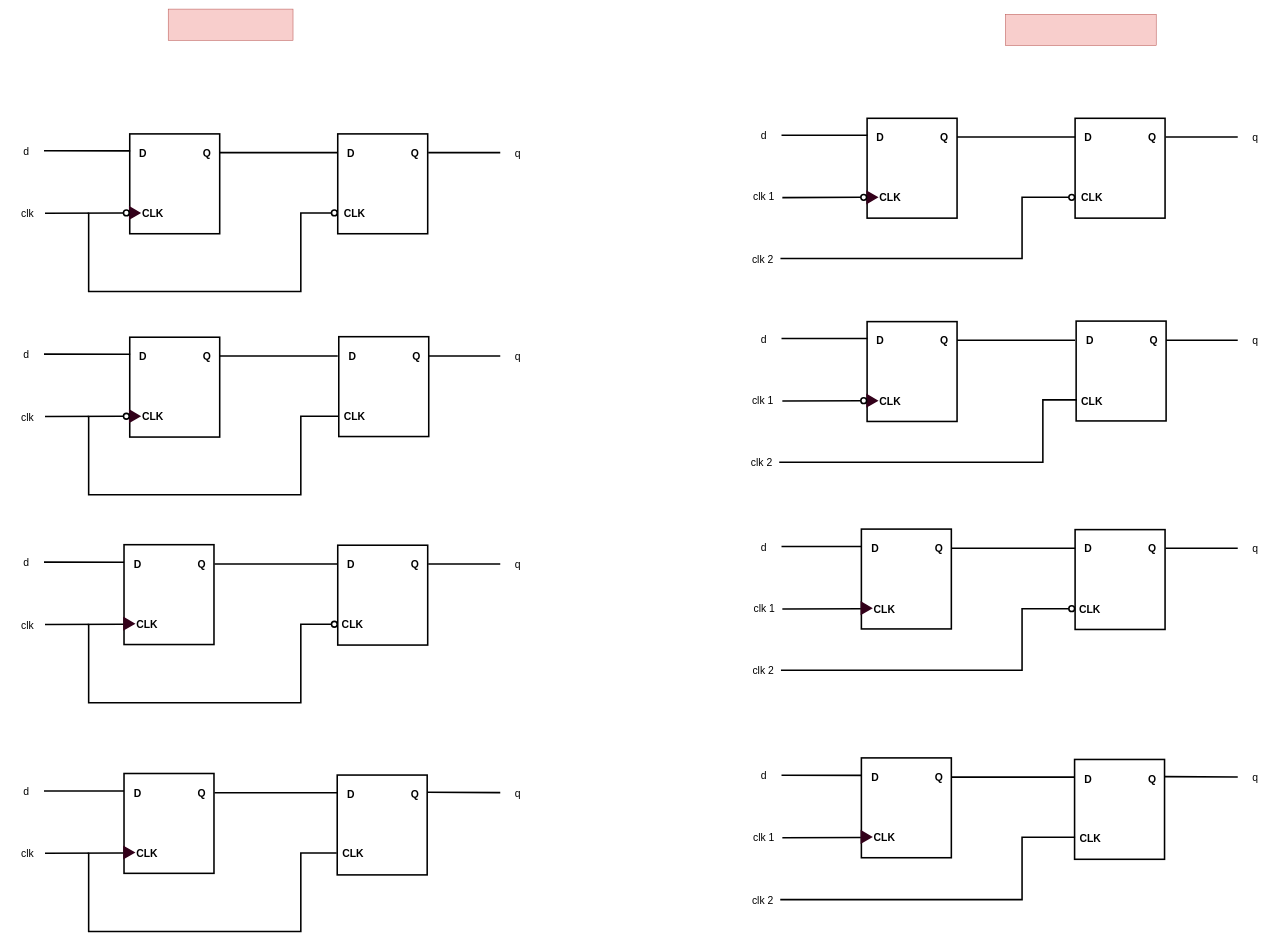
The diagram is 1281 pixels wide and 942 high, and some of its shapes have lost their labels. Here are the shapes that lost their labels. From the top down, the box of each, then its label:
(168, 9, 293, 40): Same Clock
(1005, 14, 1156, 46): Different Clock
